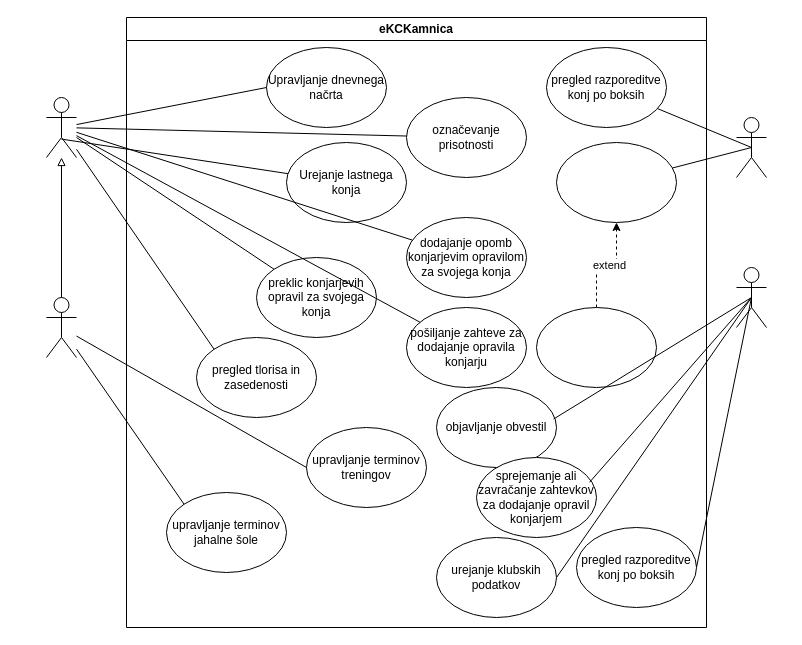
This 802x645 diagram has some shape labels left out. Each missing label, with the centre of its shape:
"Konjar" belongs at (x=751, y=147).
"Označevanje opravljenih opravil" belongs at (x=596, y=347).
"pregled opravil" belongs at (x=616, y=182).
"Trener/inštruktor" belongs at (x=61, y=327).
"Vodja/lastnik" belongs at (x=751, y=297).
"Član" belongs at (x=61, y=127).
